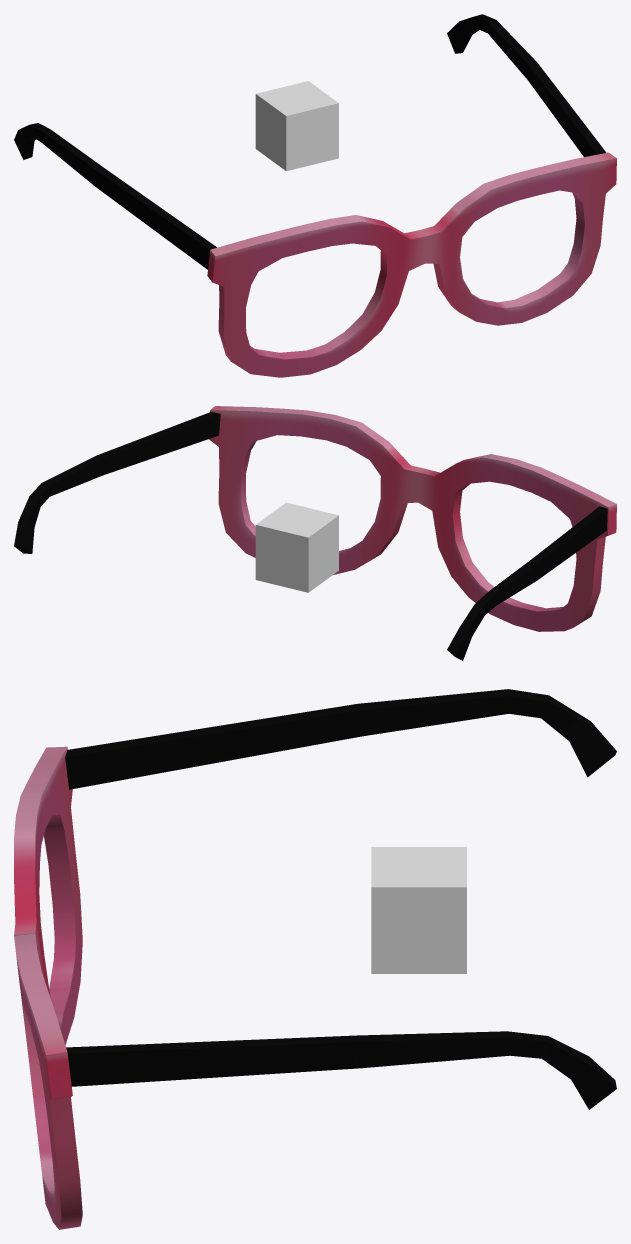
File: boy_glasses5.FBX
3 renders of one model, top to bottom at view 1: azimuth 30°, elevation 25°; view 2: azimuth 150°, elevation 25°; view 3: azimuth 270°, elevation 25°, orthographic. The views are drawn at different scales.
Visible parts, largest first — view 1: boy_glasses05, faceSpawn; view 2: boy_glasses05, faceSpawn; view 3: boy_glasses05, faceSpawn.
Boxes of the visible parts, left/top/right/bottom form: boy_glasses05: left=14, top=14, right=616, bottom=377; faceSpawn: left=255, top=81, right=338, bottom=171; boy_glasses05: left=14, top=406, right=616, bottom=660; faceSpawn: left=255, top=502, right=338, bottom=592; boy_glasses05: left=14, top=689, right=616, bottom=1229; faceSpawn: left=371, top=847, right=466, bottom=973.
Bounding box in the file's own units: 43.16 × 14.98 × 31.53.
